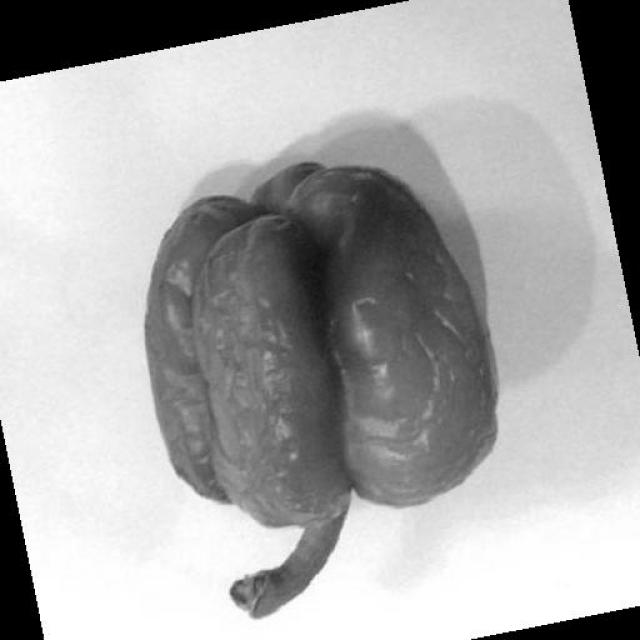Stale_Capsicum: (130, 184, 490, 580)
